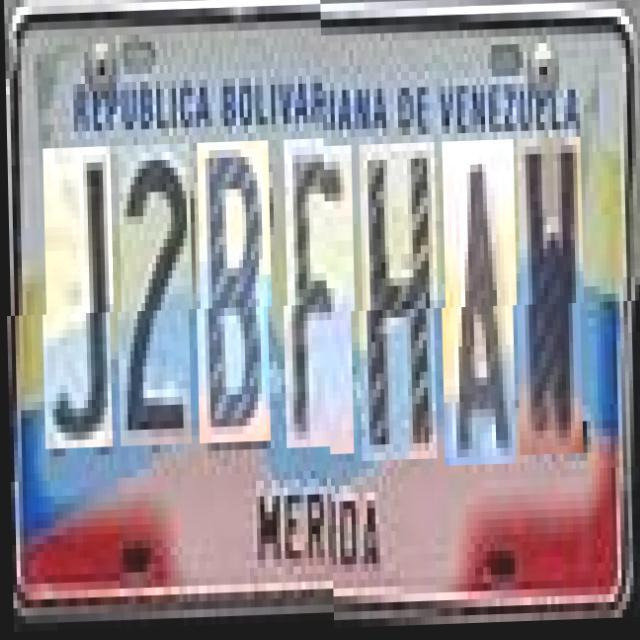2: (118, 153, 194, 454)
A: (441, 143, 518, 469)
B: (196, 150, 272, 452)
F: (284, 148, 356, 458)
H: (358, 146, 439, 464)
J: (42, 155, 114, 457)
W: (516, 141, 585, 459)
